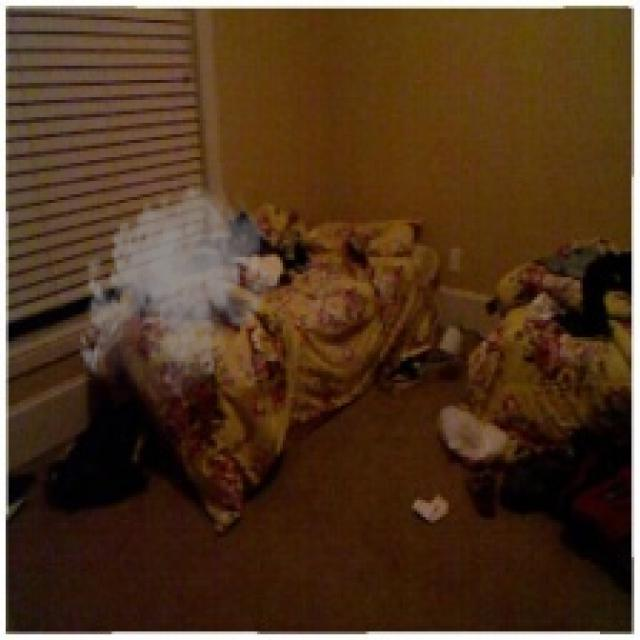smoke: (74, 177, 283, 406)
